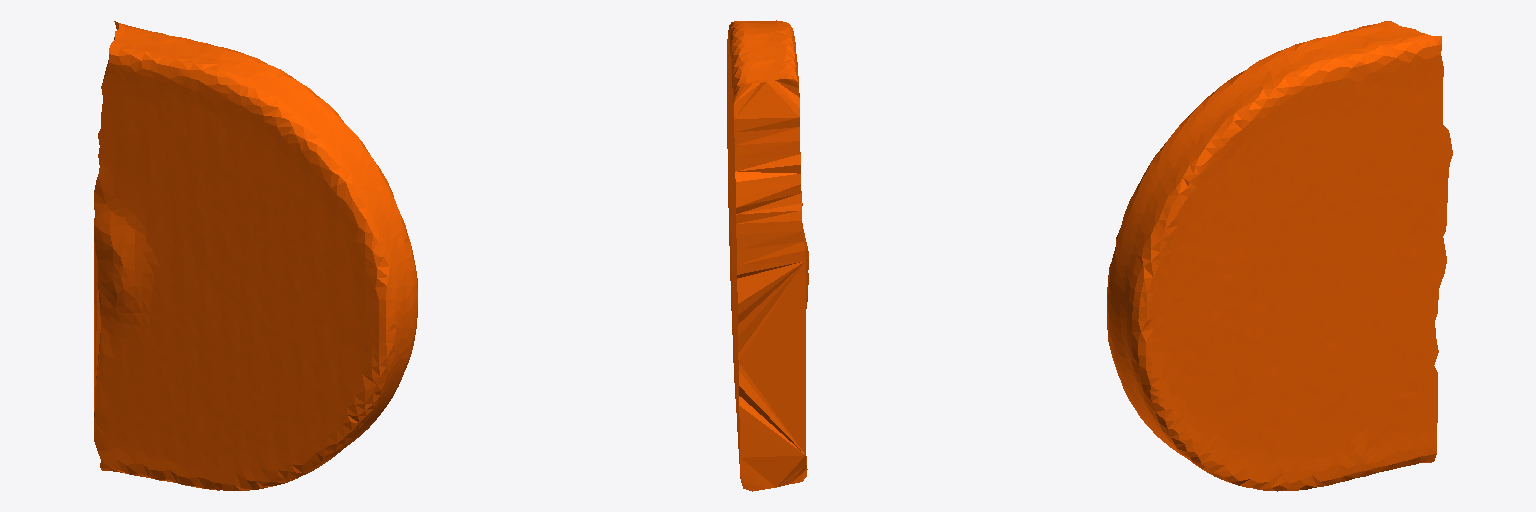
robot.urdf — capsulemachine:
<?xml version="1.0" ?>
<robot name="capsulemachine">
   <material name="obj_color">
      <color rgba="1.0 0.423529411765 0.0392156862745 1.0"/>
   </material>
   <link name="top">
      <inertial>
         <origin rpy="3.174165344629271e-06 5.6423722558869e-06 8.529685765760339e-06" xyz="0.01734931530349852 -0.02643217802972016 0.03100137126338341"/>
         <mass value="0.02100576219130245"/>
         <inertia ixx="7.740959629505551e-06" ixy="1.285248131218809e-06" ixz="-6.965637833841618e-08" iyy="6.429268383071114e-06" iyz="-6.672937155895467e-08" izz="3.175995353699843e-06"/>
      </inertial>
      <visual>
         <origin rpy="0 0 0" xyz="0 0 0"/>
         <geometry>
            <mesh filename="top_watertight_tiny.stl" scale="1 1 1"/>
         </geometry>
         <material name="obj_color"/>
      </visual>
      <collision>
         <origin rpy="0 0 0" xyz="0 0 0"/>
         <geometry>
            <mesh filename="top_watertight_tiny.obj" scale="1 1 1"/>
         </geometry>
      </collision>
   </link>
   <link name="bottom">
      <inertial>
         <origin rpy="0.00169385750923834 0.003967045683350672 0.004405174207893504" xyz="0.05136700289804626 0.07950908968081023 0.03230708184257082"/>
         <mass value="1.048362679505015"/>
         <inertia ixx="0.002888615483331892" ixy="-0.00113440803234408" ixz="4.390395226812951e-05" iyy="0.002773756085873763" iyz="4.527114231560062e-05" izz="0.004403705831276858"/>
      </inertial>
      <visual>
         <origin rpy="0 0 0" xyz="0 0 0"/>
         <geometry>
            <mesh filename="bottom_watertight_tiny.stl" scale="1 1 1"/>
         </geometry>
         <material name="obj_color"/>
      </visual>
      <collision>
         <origin rpy="0 0 0" xyz="0 0 0"/>
         <geometry>
            <mesh filename="bottom_watertight_tiny.obj" scale="1 1 1"/>
         </geometry>
      </collision>
   </link>
   <link name="world"/>
   <joint name="world_to_base" type="fixed">
      <origin xyz="0 0 0"/>
      <axis xyz="0 0 0"/>
      <parent link="world"/>
      <child link="bottom"/>
   </joint>
   <joint name="rotation" type="revolute">
      <origin xyz="0 0 0"/>
      <axis xyz="0 0 -1"/>
      <parent link="bottom"/>
      <child link="top"/>
      <dynamics damping="0.0" friction="0.000"/>
      <limit effort="1000" velocity="200" lower="0" upper="3.141592653589793"/>
   </joint>
</robot>

--- Facts derived from the render (not from the file) ---
3 views of the same robot in one strip: view 1: azimuth 30°, elevation 25°; view 2: azimuth 150°, elevation 25°; view 3: azimuth 270°, elevation 25° (orthographic).
Model capsulemachine with 3 links and 2 joints (1 revolute, 1 fixed), rooted at world, posed every joint at zero.
Links seen in each view (by area): view 1: top; view 2: top; view 3: top.
Boxes of the visible links, <box> form: top: <box>94,21,417,490</box>; top: <box>727,20,808,491</box>; top: <box>1107,21,1452,491</box>.
Size in the robot's own frame: 0.031 by 0.0451 by 0.0622 metres.
1 mesh visuals loaded from 2 distinct referenced files (1 binary STL); not drawn: 1 (reference not matched to a file when rendering).